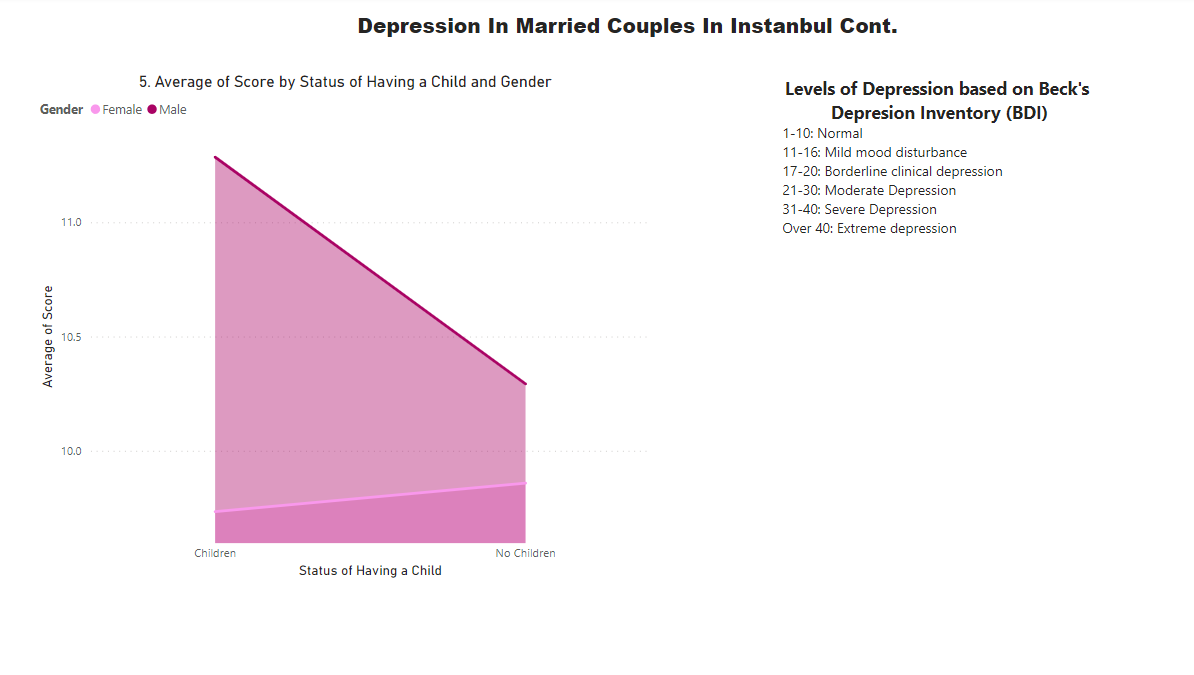

This screenshot's page, from the dashboard's own definition file:
{"tool":"powerbi","page":{"name":"Page 2","canvas":[1280,720],"ordinal":1},"visuals":[{"type":"areaChart","title":"5. Average of Score by Status of Having a Child and Gender","fields":{"Y":["Avg(Dataset 1 (2).Score)"],"Category":["Dataset 1 (2).Status of Having a Child"],"Series":["Dataset 1 (2).Gender"]},"box":[38.1,81.1,656.4,542],"z":0},{"type":"textbox","box":[824.9,81.1,343.3,197.1],"z":1000},{"type":"textbox","box":[367.2,11.1,597.6,47.7],"z":2000}]}

Visuals, with their boxes in screenshot pixels (x1, y1, x2, y2), scaled from the page's 1280x720 canvas onto the 1194x675 screenshot:
"5. Average of Score by Status of Having a Child and Gender" areaChart: 36 76 648 584
textbox: 769 76 1090 261
textbox: 343 10 900 55
